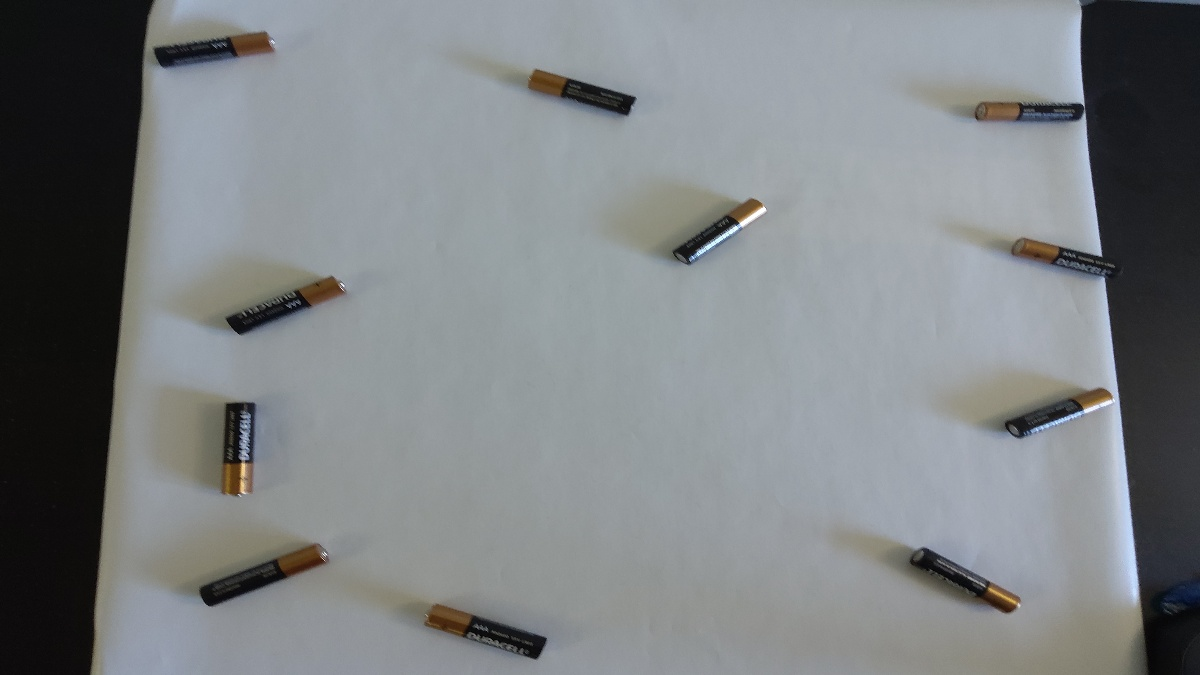battery: (178, 534, 346, 610), (903, 535, 1029, 629), (412, 594, 559, 667), (224, 261, 356, 339), (1001, 374, 1121, 455), (668, 188, 776, 271), (1002, 225, 1120, 295), (521, 59, 643, 126), (206, 387, 264, 511), (150, 29, 284, 73), (950, 91, 1089, 131)
